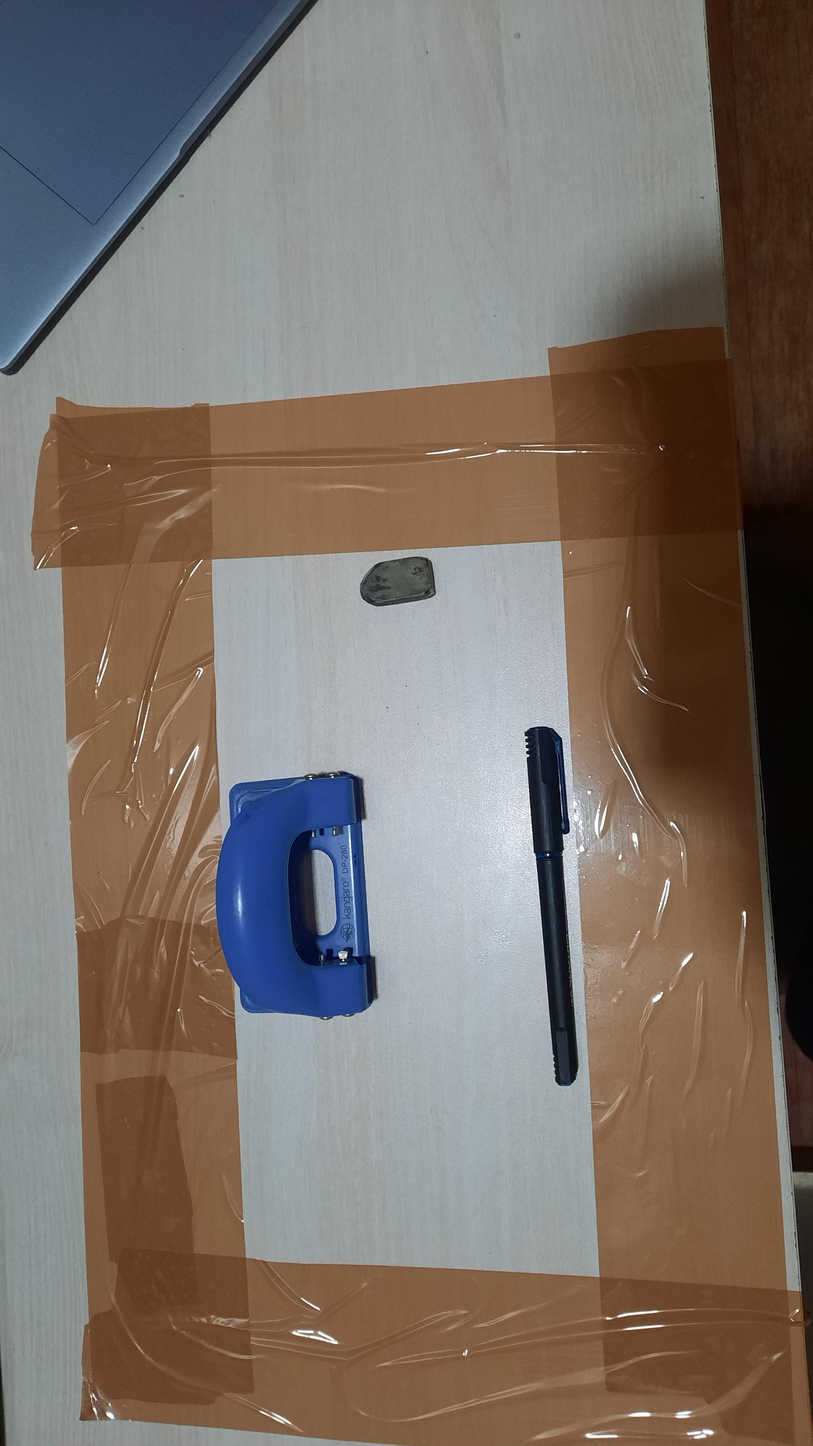Eraser: (359, 556, 436, 607)
Pen: (524, 726, 579, 1087)
Punch: (215, 771, 377, 1021)
